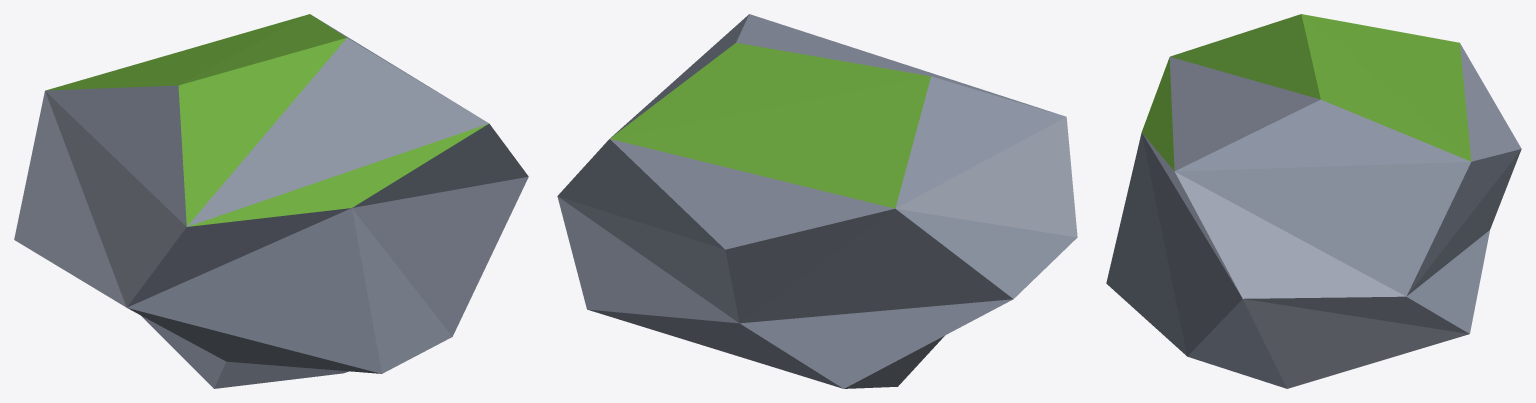
Rendered from roca_v2.glb.
The picture shows the model from 3 angles, left to right: view 1: azimuth 30°, elevation 25°; view 2: azimuth 150°, elevation 25°; view 3: azimuth 270°, elevation 25°; orthographic projection. The views are drawn at different scales.
Visible parts, largest first — view 1: roca_roca, roca_musgo, roca_roca_claro; view 2: roca_roca, roca_musgo, roca_roca_claro; view 3: roca_roca, roca_musgo, roca_roca_claro.
Part boxes in pixels (x1,y1,x2,y2): roca_roca: (14,17,528,388); roca_musgo: (46,14,487,226); roca_roca_claro: (45,91,186,307); roca_roca: (557,14,1077,388); roca_musgo: (610,42,930,208); roca_roca_claro: (896,117,1077,237); roca_roca: (1106,43,1521,388); roca_musgo: (1142,14,1471,170); roca_roca_claro: (1175,172,1469,388).
Size of the model in its own units: 2.45 by 1.7 by 2.12.
